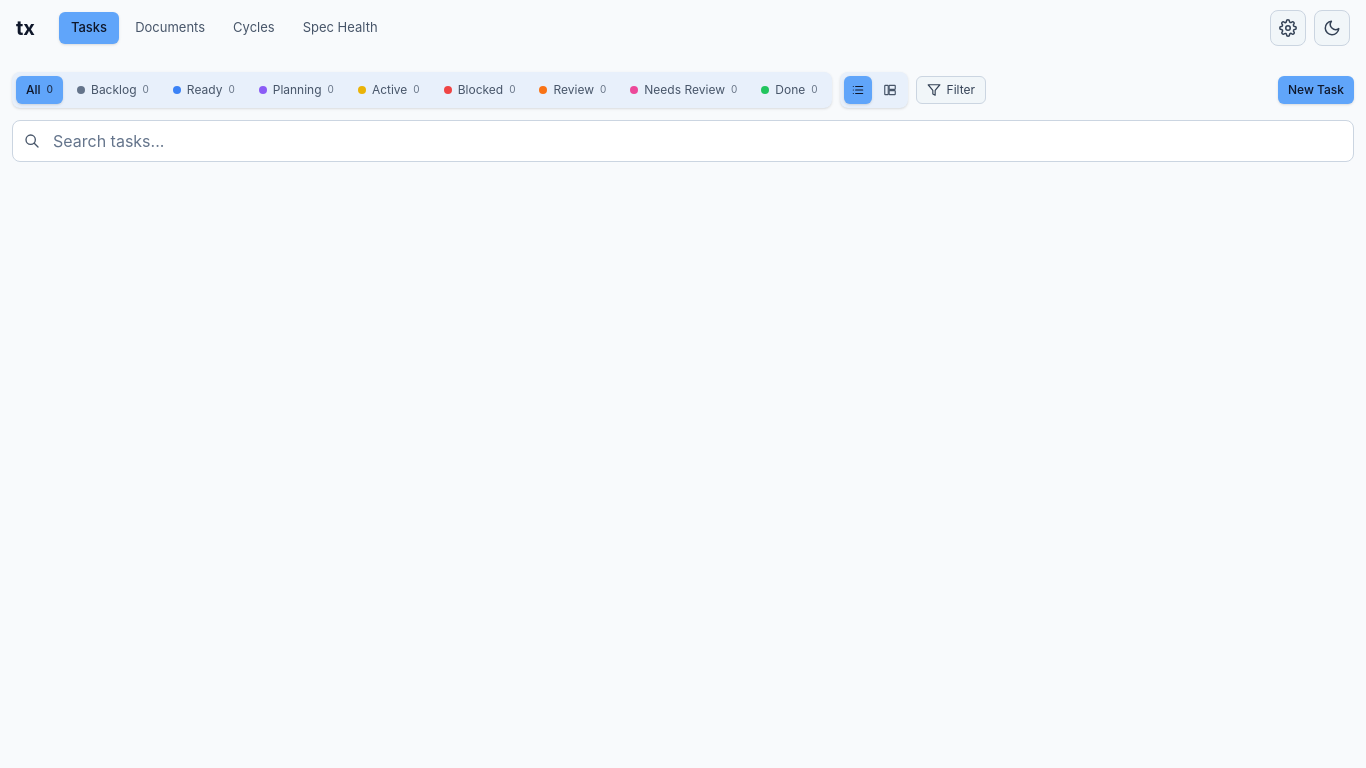
Keyboard shortcuts › CMD+K behavior › opens and closes command palette in task detail with CMD+K and CTRL+K
The width and height of the screenshot is (1366, 768).
What coordinates should you click on to do the following:
click the button "Tasks"
I would click on:
 (89, 28)
Its box is [59,12,119,44].
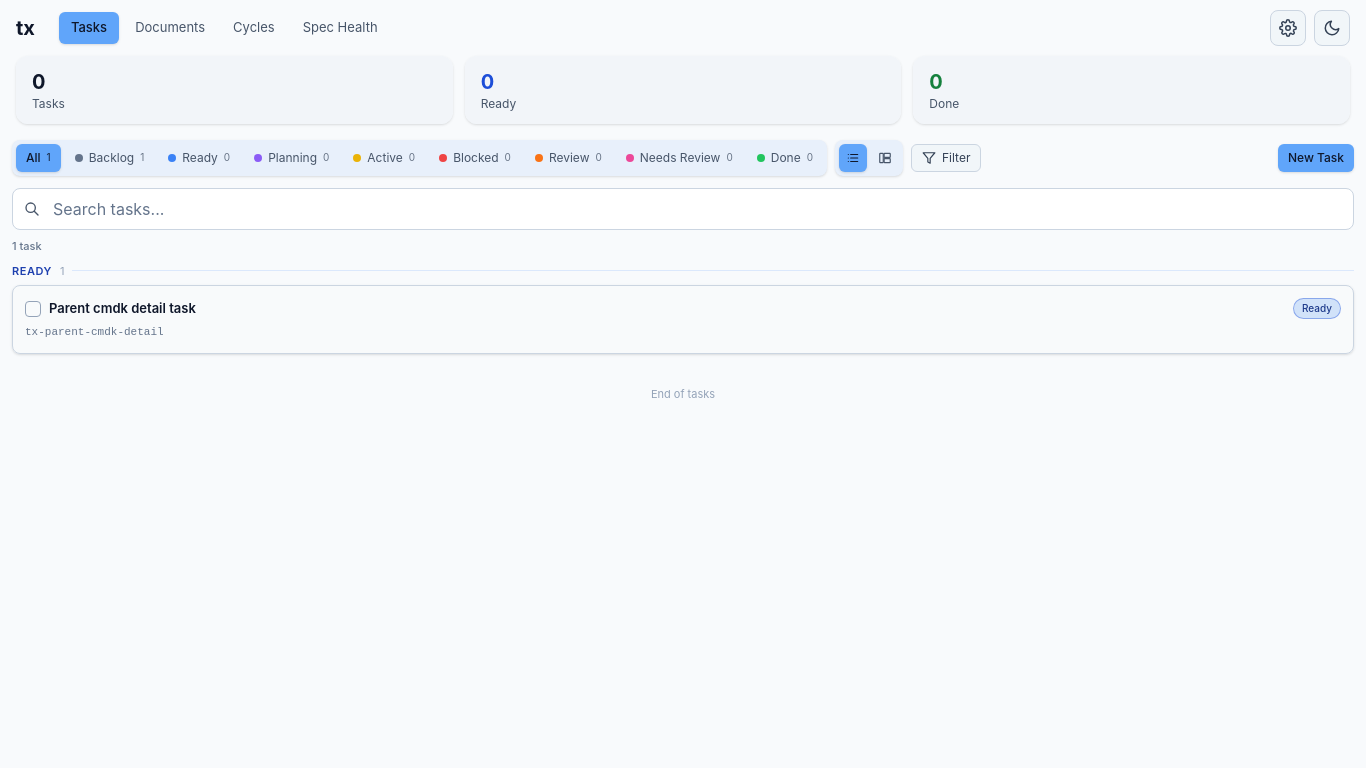
Now the heading "Parent cmdk detail task" is shown
What coordinates should you click on to do the following:
click the heading "Parent cmdk detail task"
I would click on:
 (122, 309)
Its box is [49,299,196,318].
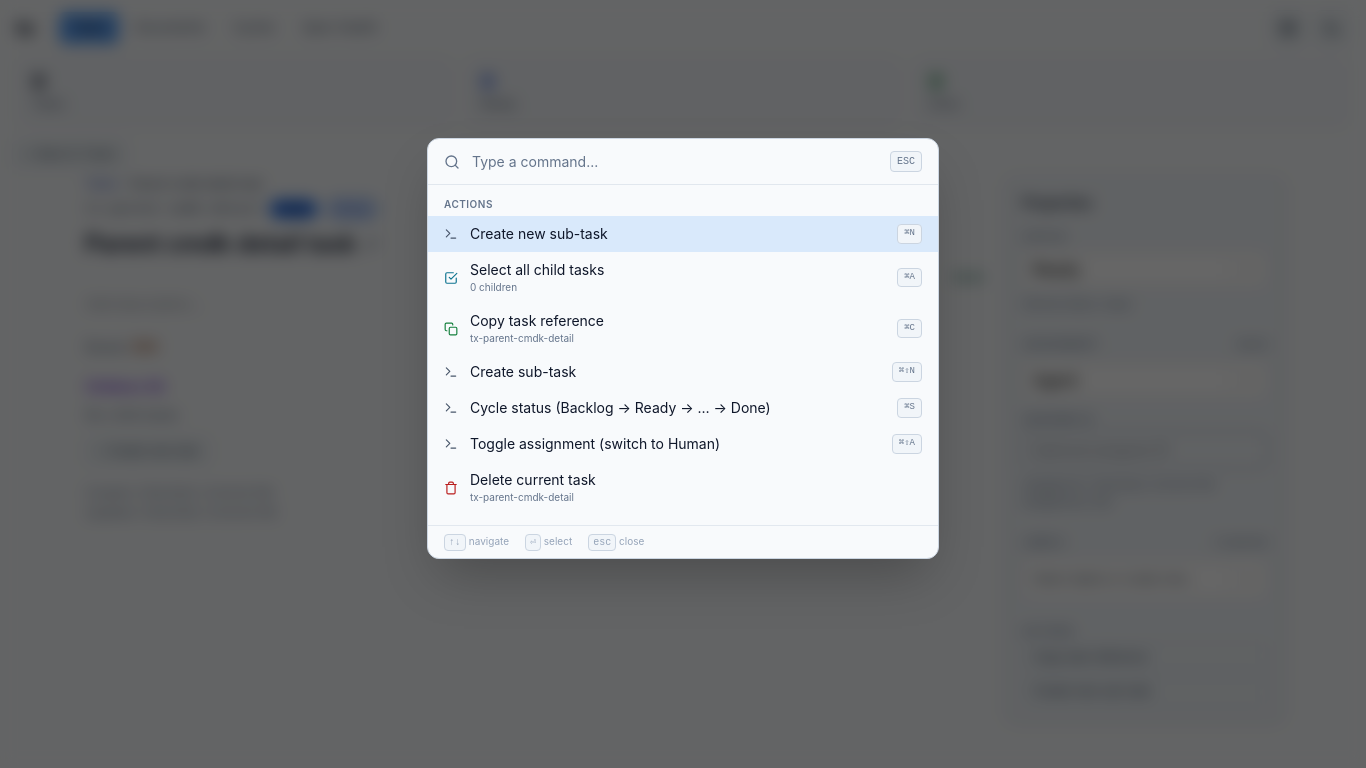
Now the field with placeholder "Type a command..." is shown, box [472,152,878,172]
